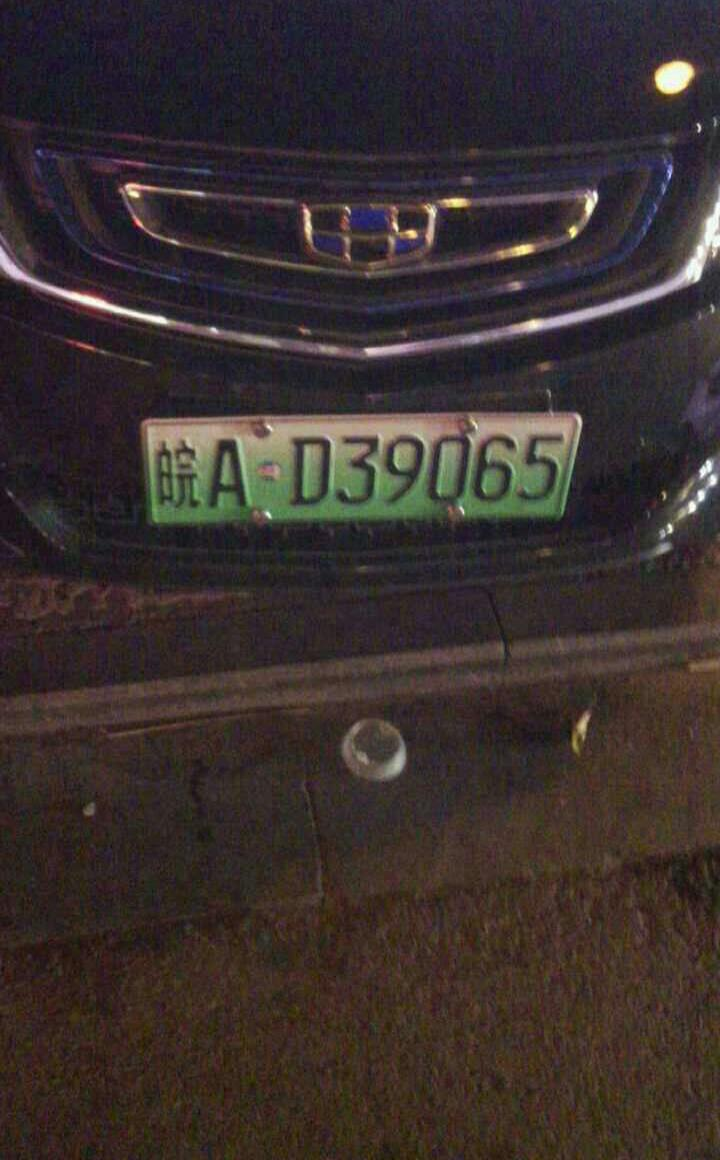car_id: (149, 418, 589, 516)
